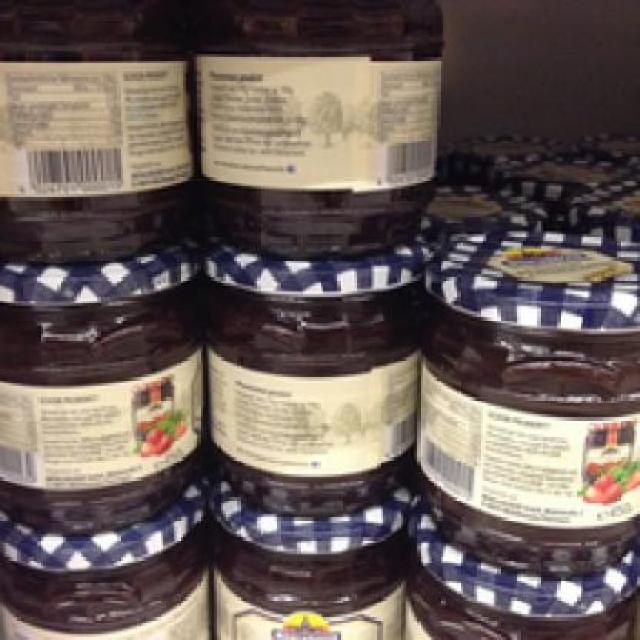Jam: (420, 222, 637, 568), (190, 0, 444, 249), (197, 240, 426, 514), (0, 253, 200, 530), (0, 0, 195, 261), (206, 480, 412, 637), (0, 505, 209, 638)
